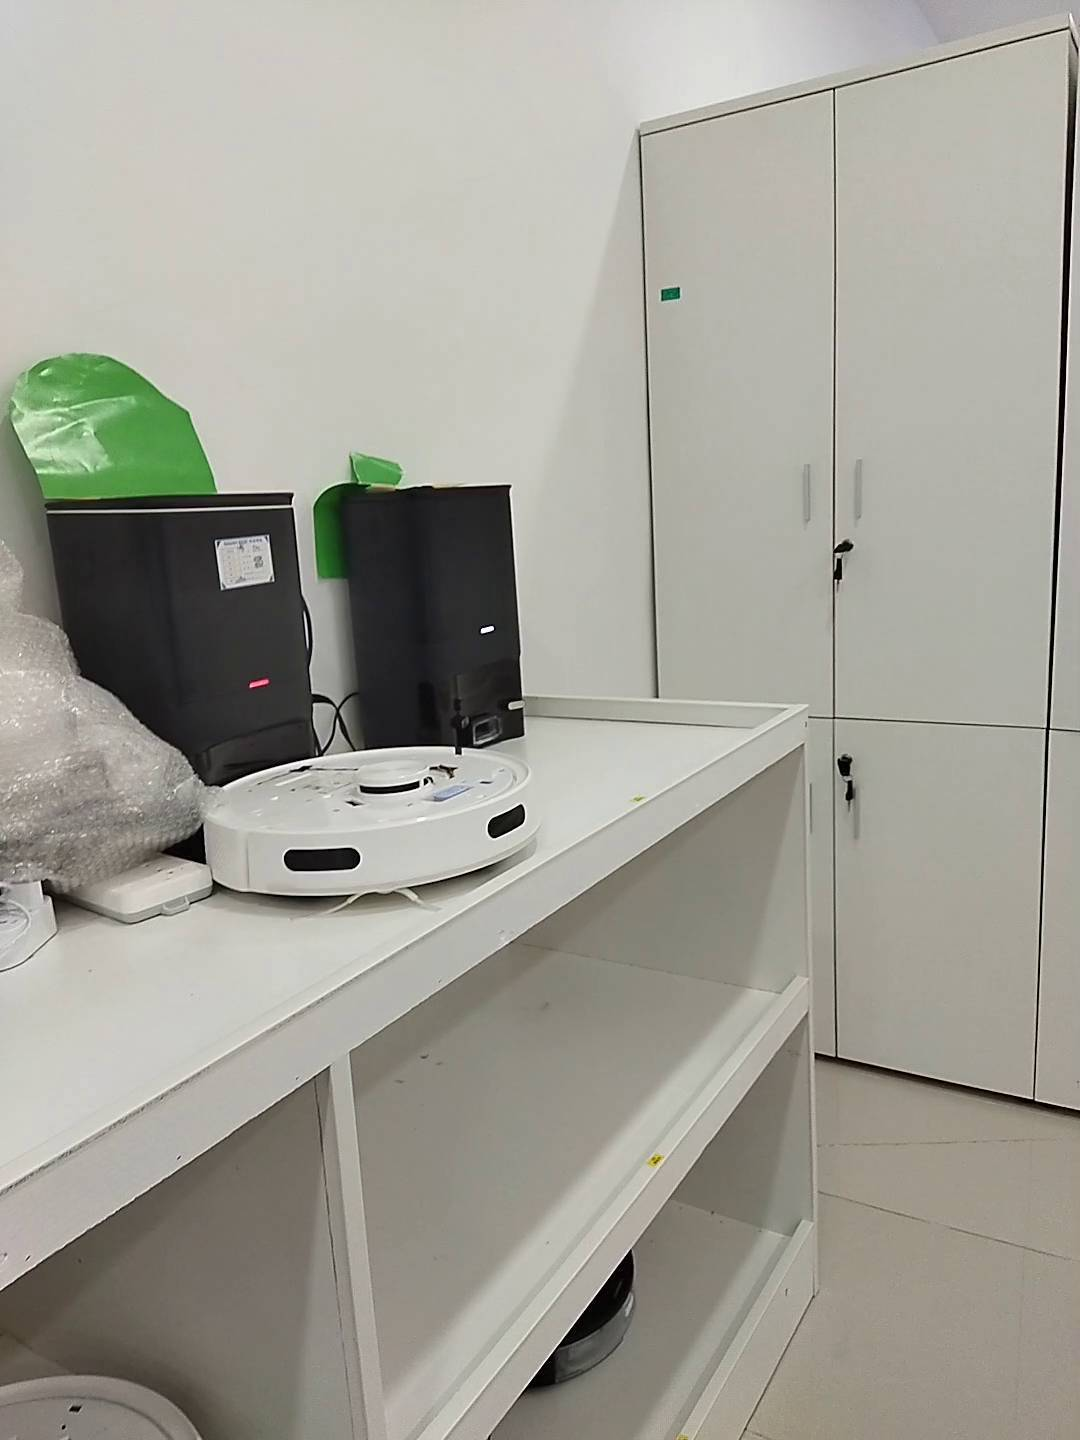dust collecting barrel: (42, 489, 314, 787), (341, 482, 528, 749)
